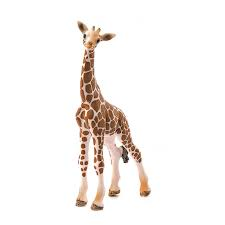Jirafa: (64, 14, 168, 210)
